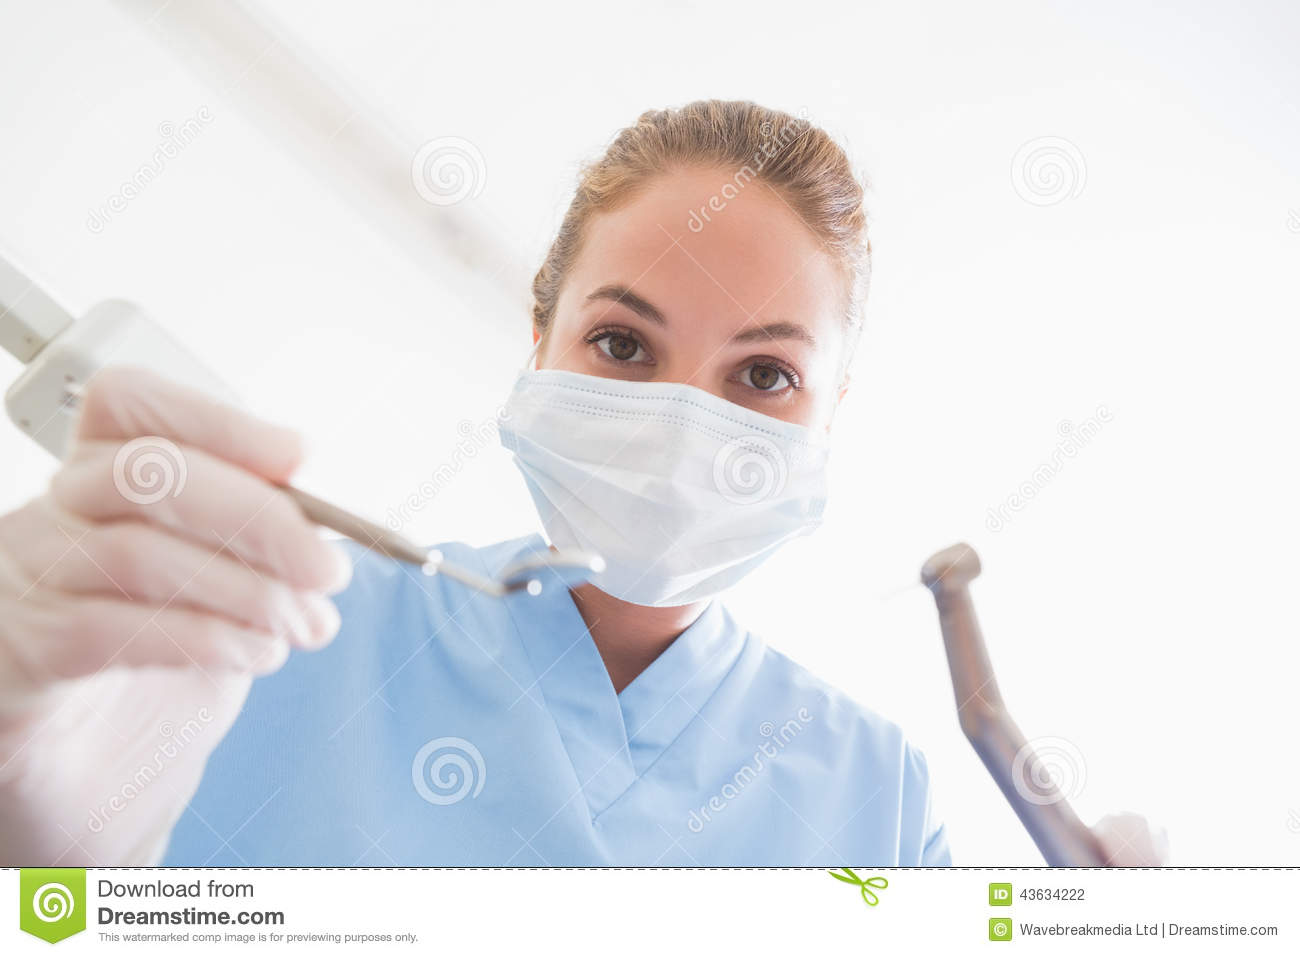mask: (489, 354, 832, 632)
